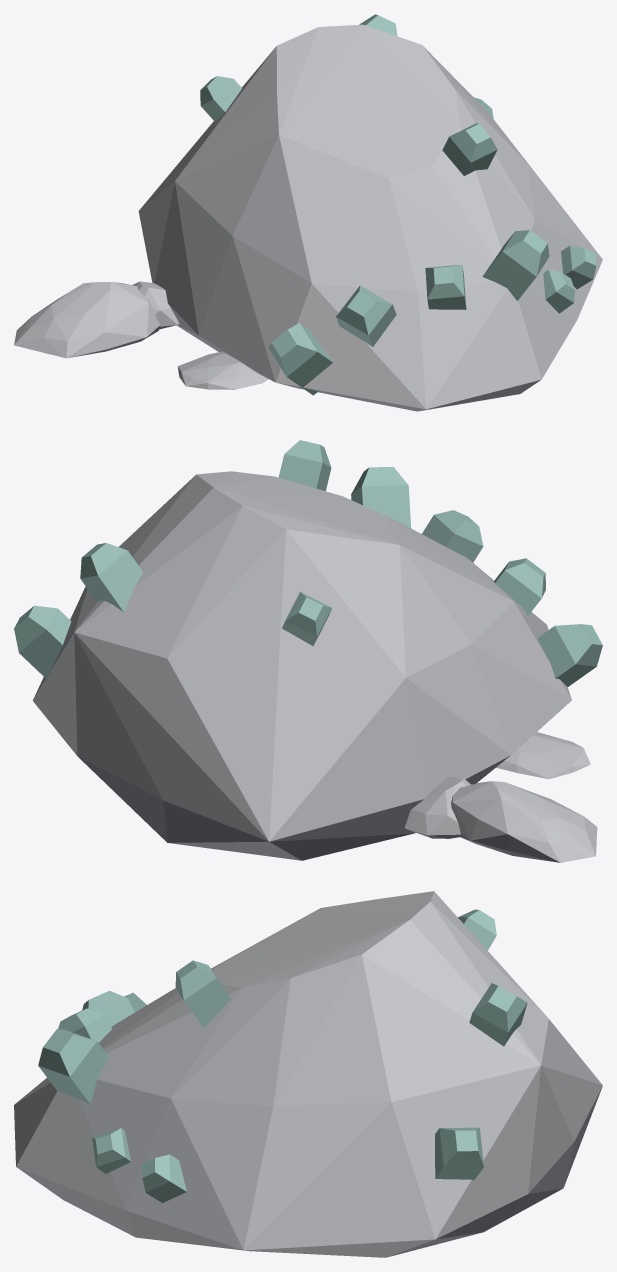
File: SM_MR_Crystal_Small_06.fbx
3 renders of one model, top to bottom at view 1: azimuth 30°, elevation 25°; view 2: azimuth 150°, elevation 25°; view 3: azimuth 270°, elevation 25°, orthographic. The views are drawn at different scales.
Visible parts, largest first — view 1: SM_MR_Crystal_Small_06; view 2: SM_MR_Crystal_Small_06; view 3: SM_MR_Crystal_Small_06.
Boxes of the visible parts, x1,y1,x2,y2 form: SM_MR_Crystal_Small_06: (14,14,602,411); SM_MR_Crystal_Small_06: (14,440,602,862); SM_MR_Crystal_Small_06: (14,891,602,1257).
Size of the model in its own units: 0.35 by 0.3184 by 0.1694.
